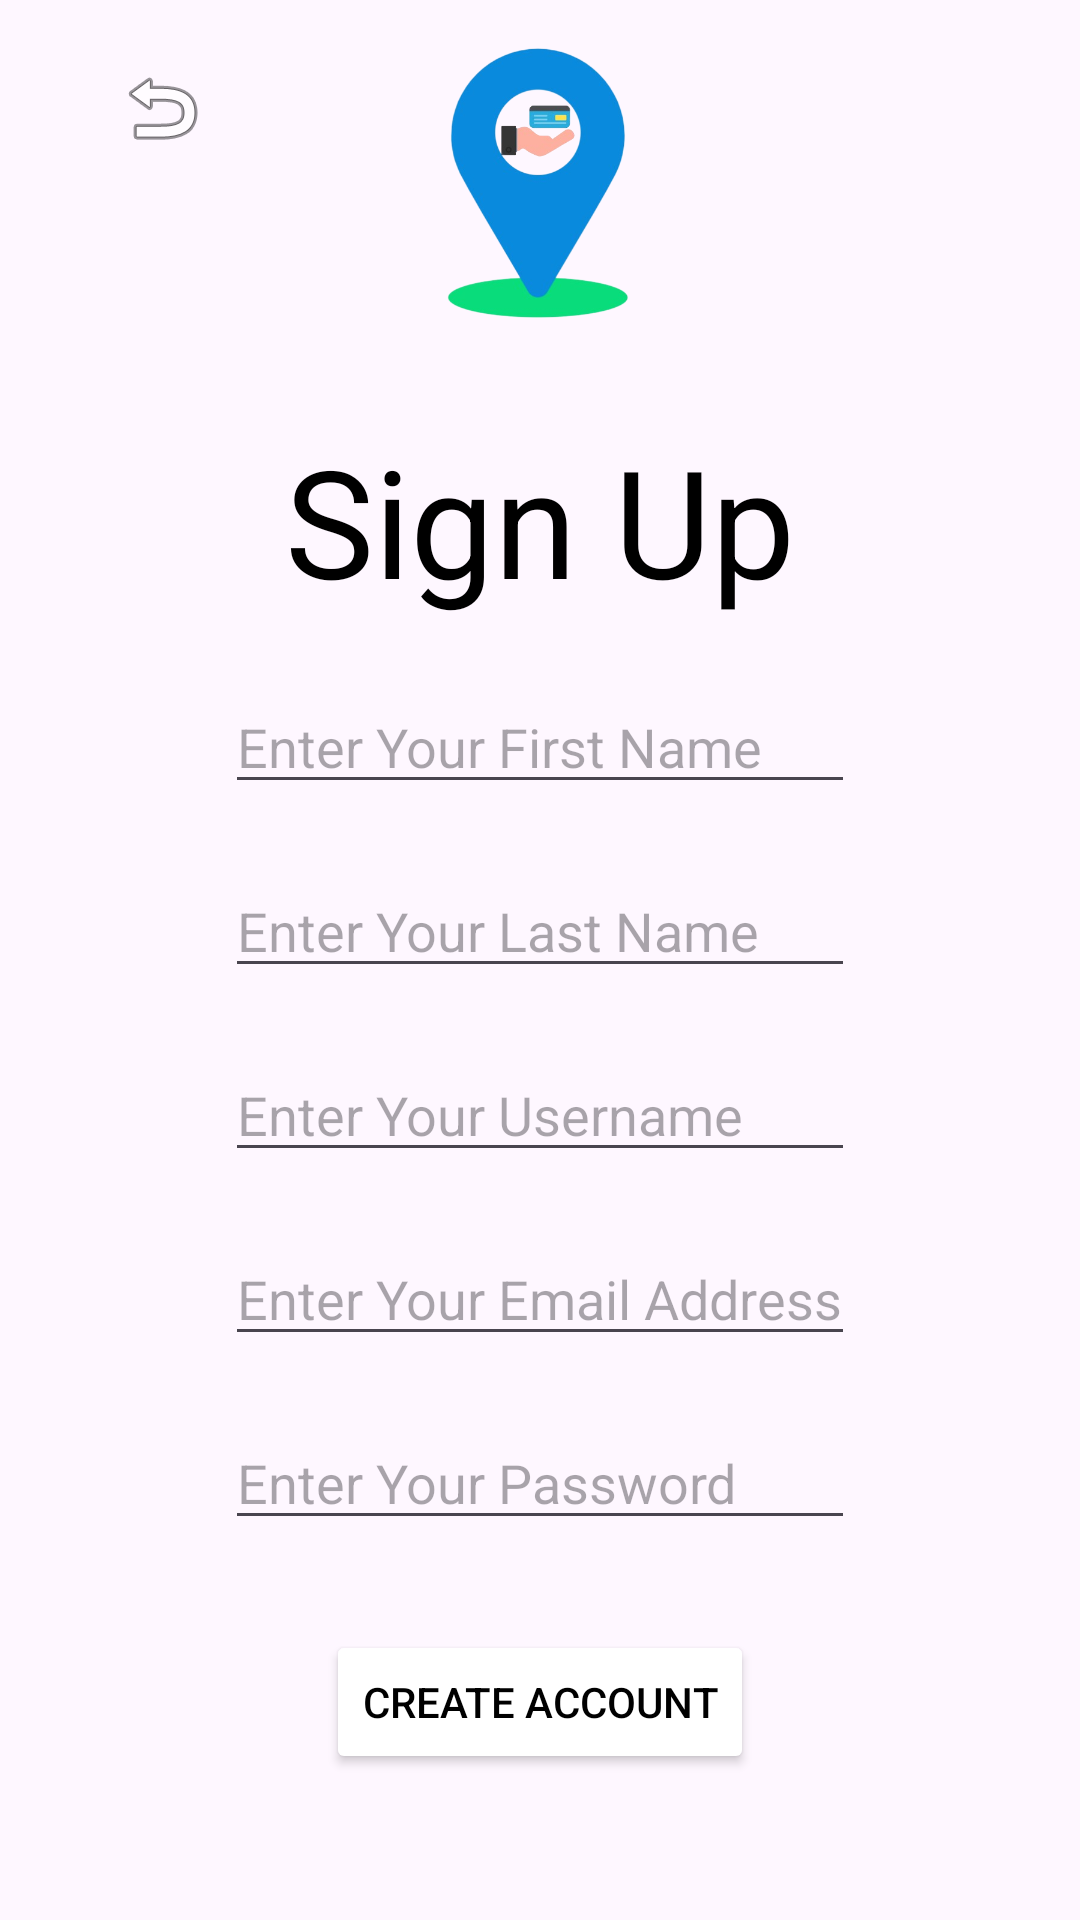

Named icons in this screenshot (1080 x 1920) and their bounding boxes, (x1, y1, x2, y2):
revert: (129, 77, 198, 140)
